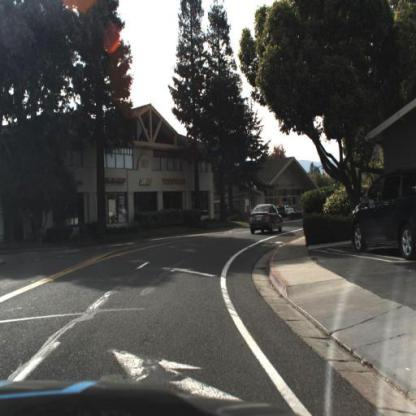car: (351, 168, 416, 258), (248, 202, 286, 242)
